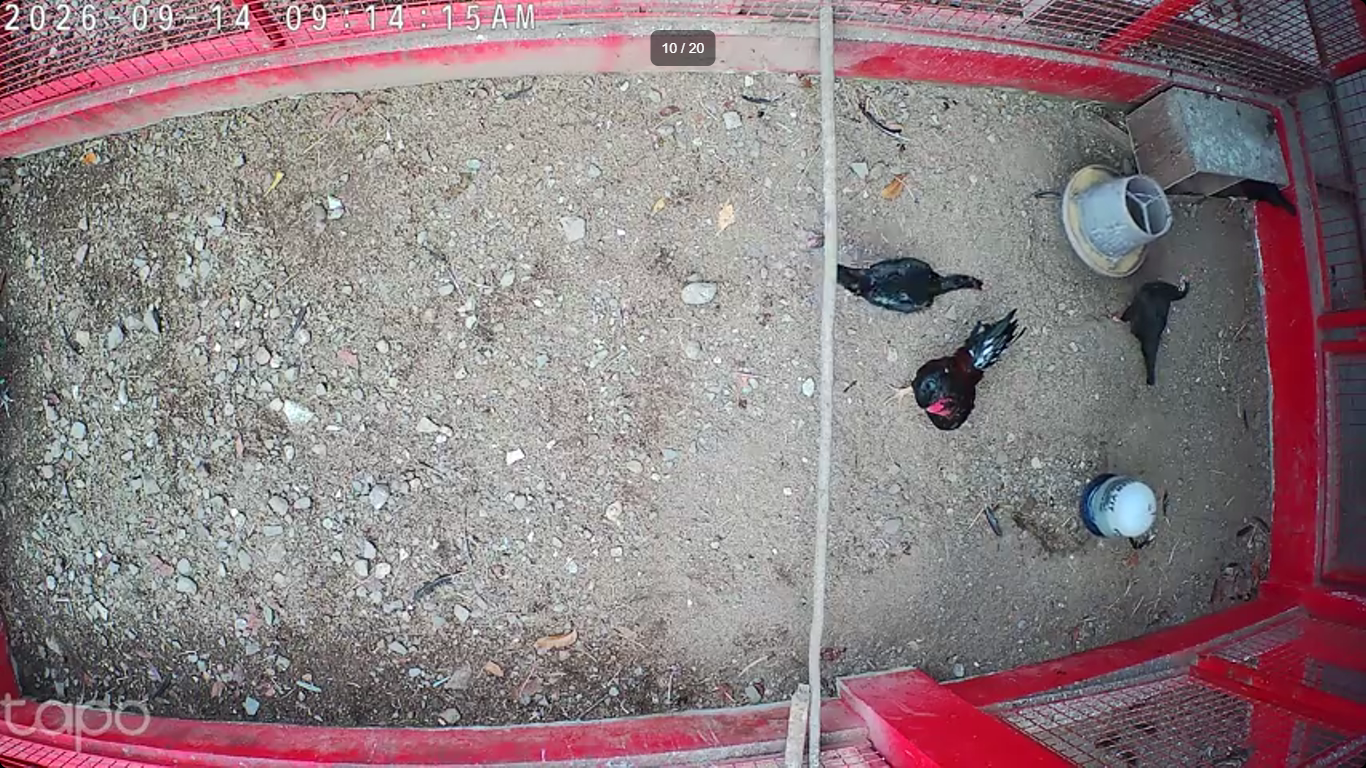Rooster: (877, 308, 1027, 433)
